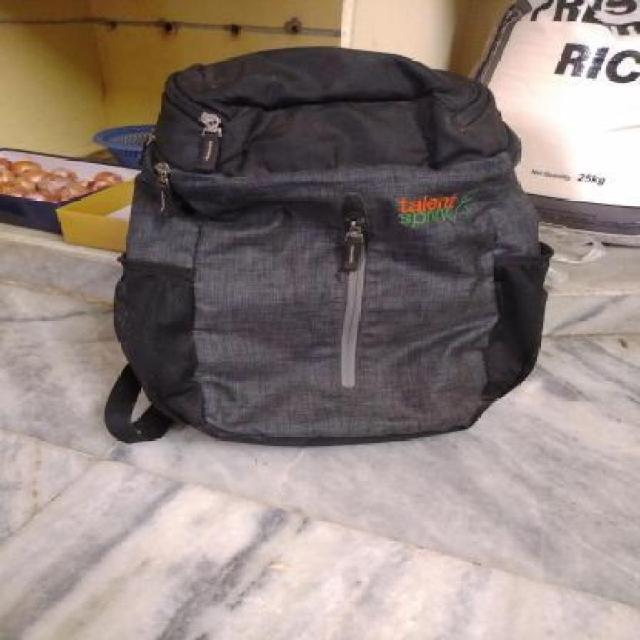backpack: (101, 41, 557, 454)
